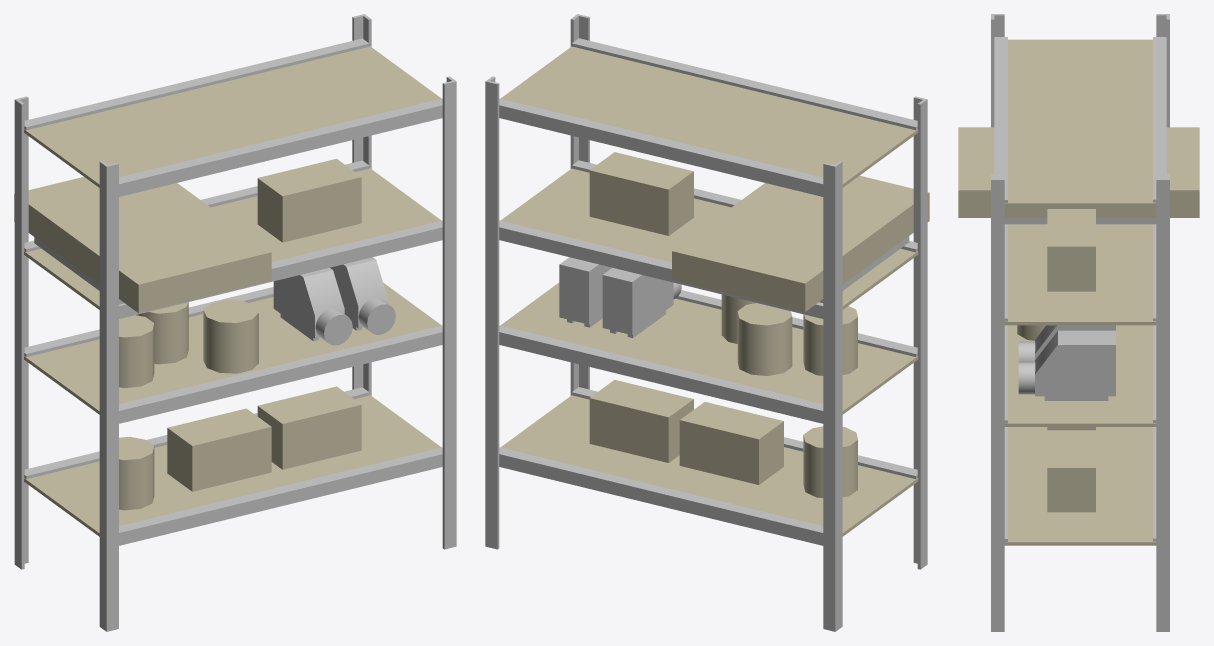
File: shelf.fbx
3 views of the same model, side by side, from view 1: azimuth 30°, elevation 25°; view 2: azimuth 150°, elevation 25°; view 3: azimuth 270°, elevation 25° (orthographic). The views are drawn at different scales.
Parts seen in each view (by area): view 1: Mesh; view 2: Mesh; view 3: Mesh.
Boxes of the visible parts, x1=… form: Mesh: x1=14, y1=14, x2=456, y2=631; Mesh: x1=485, y1=14, x2=929, y2=631; Mesh: x1=958, y1=14, x2=1199, y2=631.
Bounding box in the file's own units: 159 × 202 × 97.86.
